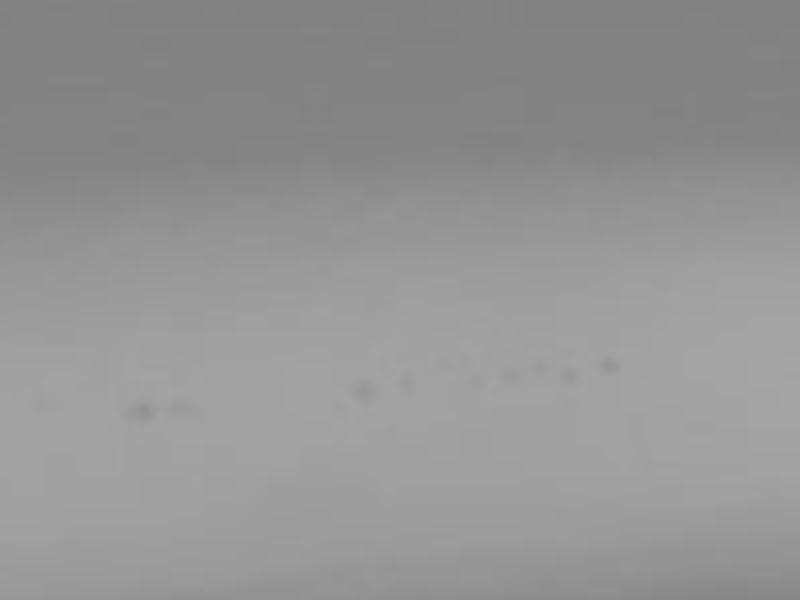defect: (350, 378, 384, 404), (394, 368, 419, 397), (131, 404, 157, 427), (599, 354, 626, 376), (168, 397, 192, 421), (329, 400, 353, 420), (563, 365, 582, 385)
